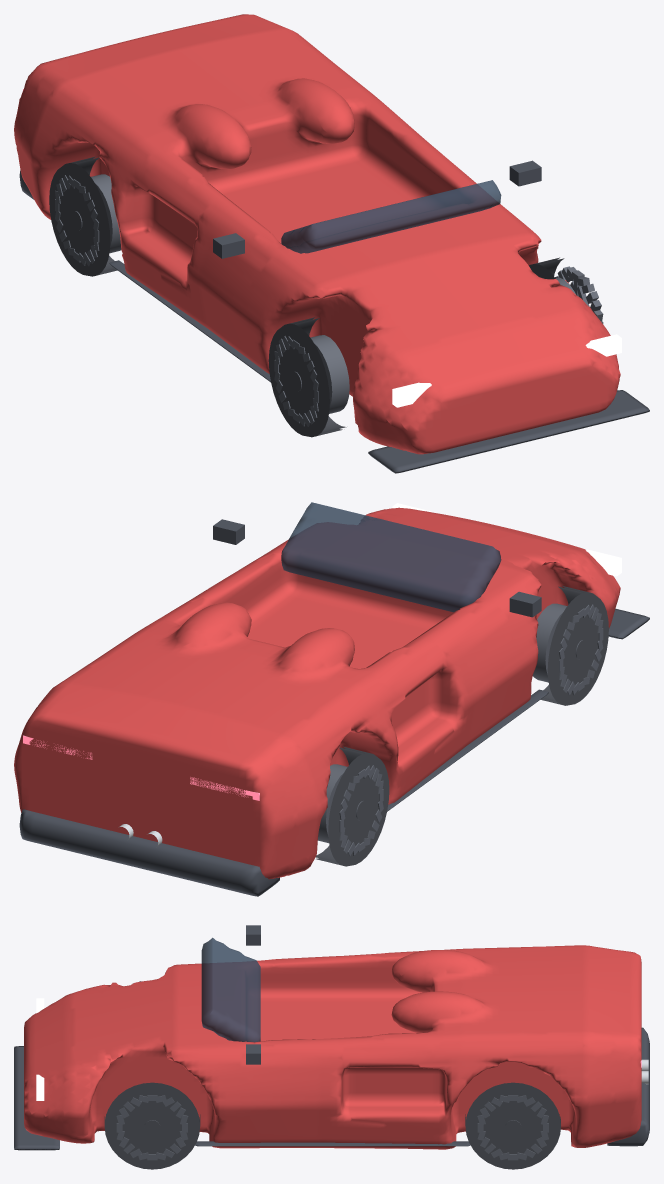
Rendered from veloce.glb.
3 renders of one model, top to bottom at view 1: azimuth 30°, elevation 25°; view 2: azimuth 150°, elevation 25°; view 3: azimuth 270°, elevation 25°, orthographic. The views are drawn at different scales.
Visible parts, largest first — view 1: Bodywork, TireRubber, CarbonAero (×2), ForgedRim, CanopyGlass, HeadlightLED; view 2: Bodywork, CanopyGlass, CarbonAero (×2), TireRubber, ForgedRim, TaillightLED, HeadlightLED; view 3: Bodywork, TireRubber, CanopyGlass, CarbonAero (×2), ForgedRim.
Boxes of the visible parts, <box> form: Bodywork: <box>14,14,620,454</box>; TireRubber: <box>49,156,564,437</box>; CarbonAero (×2): <box>19,160,649,473</box>; ForgedRim: <box>55,174,603,426</box>; CanopyGlass: <box>281,180,501,253</box>; HeadlightLED: <box>392,334,621,407</box>; Bodywork: <box>14,507,620,879</box>; CanopyGlass: <box>281,502,501,612</box>; CarbonAero (×2): <box>19,519,649,896</box>; TireRubber: <box>316,586,608,866</box>; ForgedRim: <box>318,603,603,856</box>; TaillightLED: <box>23,735,259,800</box>; HeadlightLED: <box>392,503,621,576</box>; Bodywork: <box>24,945,641,1149</box>; TireRubber: <box>104,1082,560,1169</box>; CanopyGlass: <box>201,937,260,1042</box>; CarbonAero (×2): <box>14,925,649,1150</box>; ForgedRim: <box>116,981,548,1160</box>.
Size of the model in its own units: 2.22 by 1.14 by 4.65.
